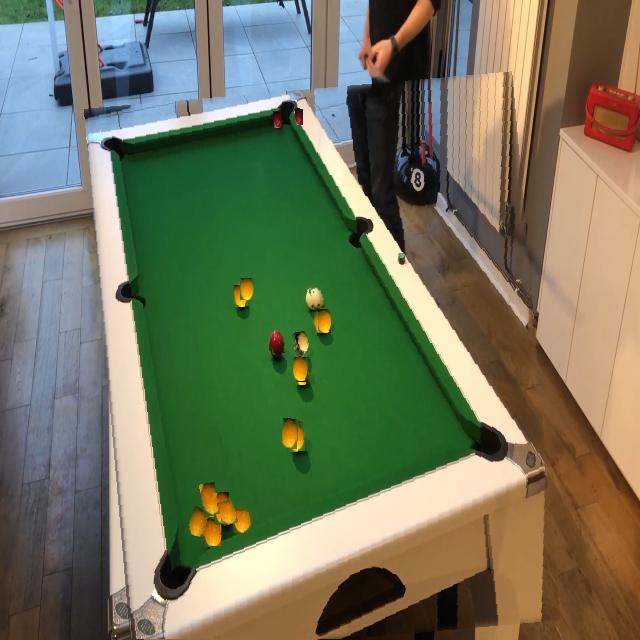Ball: (187, 506, 208, 537), (201, 482, 219, 516), (281, 419, 299, 449), (219, 500, 237, 526), (270, 330, 286, 354), (294, 332, 310, 356), (293, 358, 308, 383), (318, 309, 331, 333), (240, 278, 254, 300), (311, 287, 325, 309), (295, 108, 303, 125)
Billiard table: (95, 80, 548, 640)
